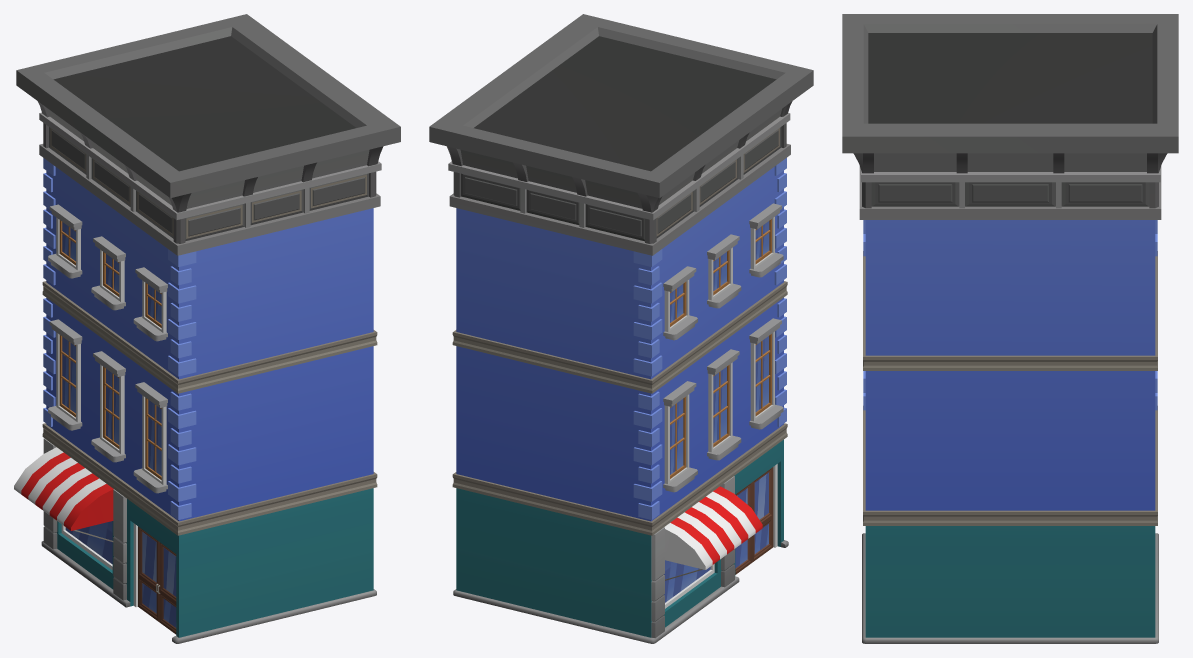
File: Building_8_2_W.glb
The picture shows the model from 3 angles, left to right: view 1: azimuth 30°, elevation 25°; view 2: azimuth 150°, elevation 25°; view 3: azimuth 270°, elevation 25°; orthographic projection. The views are drawn at different scales.
Parts seen in each view (by area): view 1: Building 8_2_W; view 2: Building 8_2_W; view 3: Building 8_2_W.
Part boxes in pixels (x1=…): Building 8_2_W: x1=14, y1=14, x2=400, y2=643; Building 8_2_W: x1=429, y1=14, x2=813, y2=643; Building 8_2_W: x1=842, y1=14, x2=1178, y2=643.
Size of the model in its own units: 7.2 by 12.76 by 7.55.
3 materials, 3 textured.
